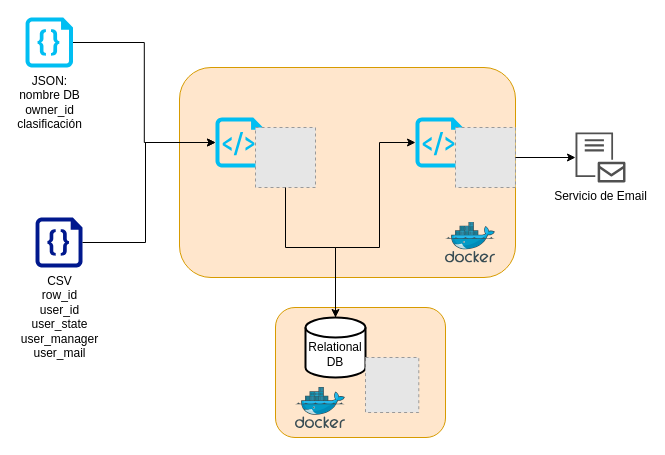
The diagram is 665 pixels wide and 455 high, and some of its shapes have lost their labels. Grey dashed boxes stand in for pictures. The shapes that lost their labels are listed below. From the top down, each one's centre as x and y in pixels, then its label:
the point at 238,142: Ingesta y Validación
the point at 438,142: Query + Notificación
